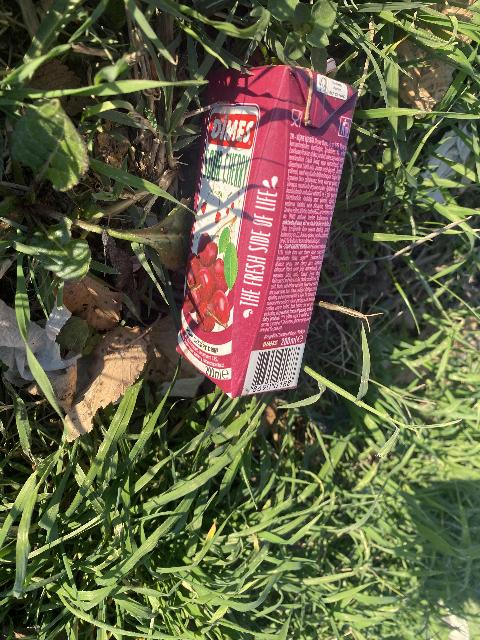Kagit: (184, 52, 362, 395)
Organik: (40, 290, 127, 402), (16, 92, 100, 189)
